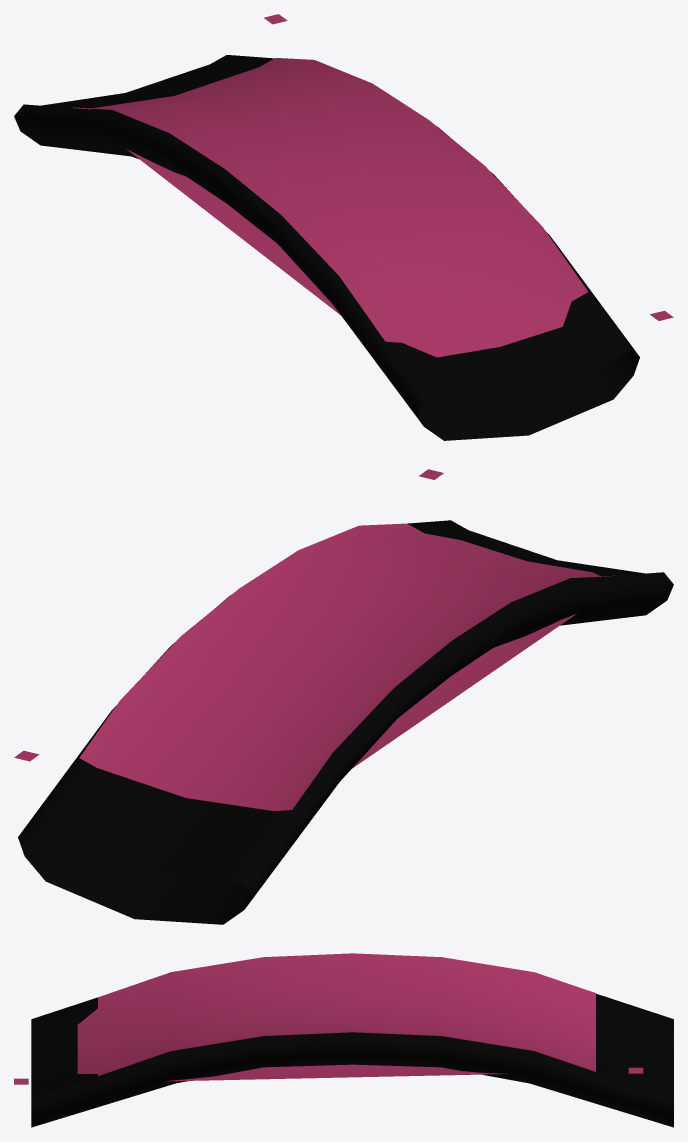
File: fy_brandon_ponton.max.fobj.obj
The picture shows the model from 3 angles, top to bottom: view 1: azimuth 30°, elevation 25°; view 2: azimuth 150°, elevation 25°; view 3: azimuth 270°, elevation 25°; orthographic projection. The views are drawn at different scales.
Visible parts, largest first — view 1: Fy_Brandon_ponton_col_in, Fy_Brandon_ponton, Fy_Brandon_ponton_col_ex; view 2: Fy_Brandon_ponton_col_in, Fy_Brandon_ponton, Fy_Brandon_ponton_col_ex; view 3: Fy_Brandon_ponton_col_in, Fy_Brandon_ponton, Fy_Brandon_ponton_col_ex.
Part boxes in pixels (x1,y1,x2,y2): Fy_Brandon_ponton_col_in: (78, 58, 588, 357); Fy_Brandon_ponton: (14, 55, 639, 440); Fy_Brandon_ponton_col_ex: (73, 14, 673, 320); Fy_Brandon_ponton_col_in: (79, 523, 615, 811); Fy_Brandon_ponton: (18, 520, 673, 924); Fy_Brandon_ponton_col_ex: (14, 469, 576, 768); Fy_Brandon_ponton_col_in: (77, 953, 595, 1075); Fy_Brandon_ponton: (31, 993, 673, 1127); Fy_Brandon_ponton_col_ex: (14, 1064, 643, 1084).
Size of the model in its own units: 678 by 378 by 1983.
